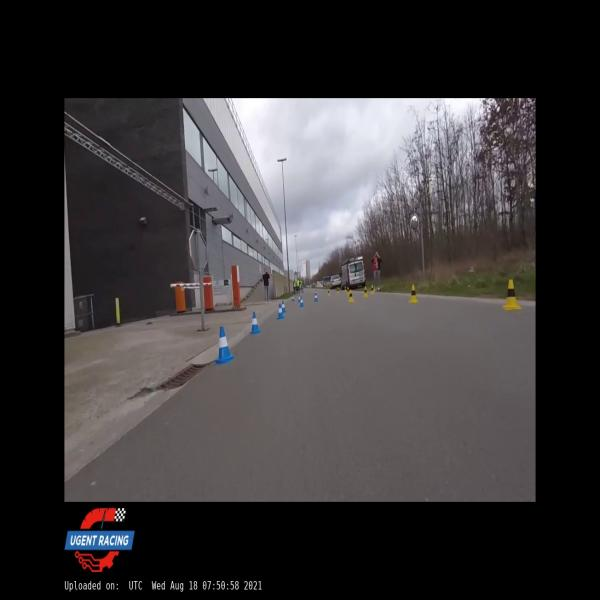blue_cone: (216, 326, 234, 364), (251, 312, 260, 333), (277, 305, 284, 319), (282, 302, 286, 312), (299, 298, 303, 307), (314, 293, 318, 302), (298, 295, 301, 303), (292, 295, 295, 301)
yellow_cone: (503, 280, 521, 309), (409, 284, 417, 302), (348, 290, 354, 302), (364, 286, 367, 297), (371, 284, 374, 294), (337, 287, 340, 294), (327, 289, 330, 296)
